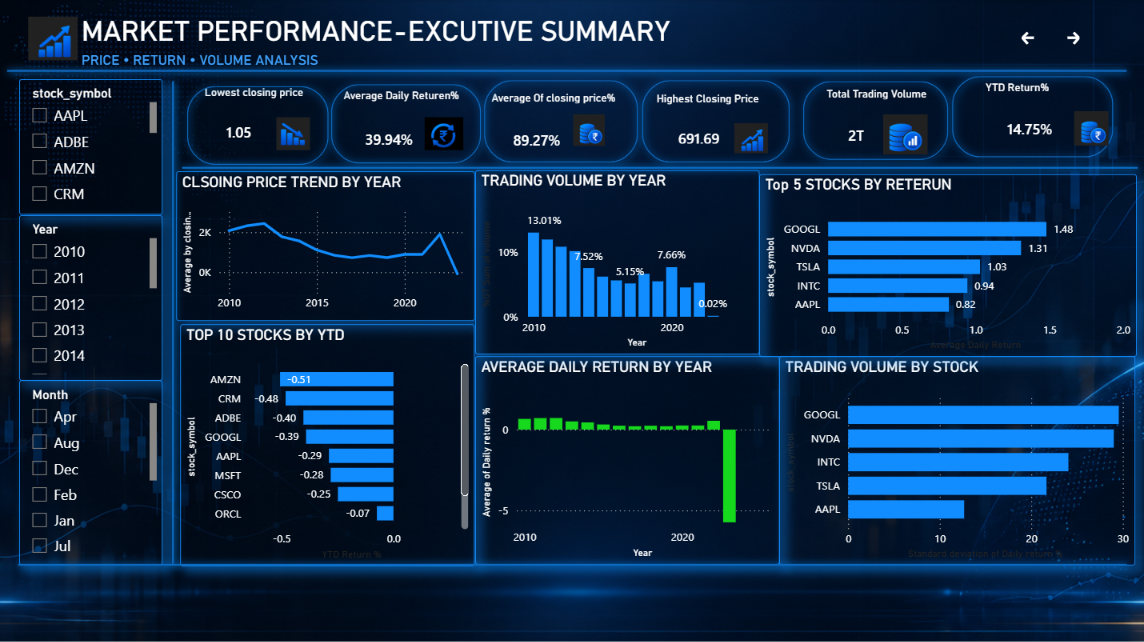

This screenshot's page, from the dashboard's own definition file:
{"tool":"powerbi","page":{"name":"STOCK_PERFORMANCE","canvas":[1280,720],"ordinal":1},"visuals":[{"type":"cardVisual","title":"Total Trading Volume","fields":{"Data":["big_tech_stock_prices.Total Trading Volume"]},"box":[919.4,98.8,123.3,80.2],"z":0},{"type":"lineChart","title":"CLSOING PRICE TREND BY YEAR","fields":{"Category":["big_tech_stock_prices.date.Variation.Date Hierarchy.Year"],"Y":["Sum(big_tech_stock_prices.Daily return %)"]},"box":[197.5,192.5,333.8,167.5],"z":1000},{"type":"clusteredBarChart","title":"TOP 10 STOCKS BY YTD","fields":{"Category":["big_tech_stock_prices.stock_symbol"],"Y":["big_tech_stock_prices.YTD Return %"]},"box":[202.5,362.5,328.8,270],"z":2000},{"type":"clusteredBarChart","title":"TRADING VOLUME BY STOCK","fields":{"Category":["big_tech_stock_prices.stock_symbol"],"Y":["Sum(big_tech_stock_prices.Daily return %)"]},"box":[871.2,398.8,397.5,233.8],"z":3000},{"type":"clusteredColumnChart","title":"AVERAGE DAILY RETURN BY YEAR","fields":{"Category":["big_tech_stock_prices.date.Variation.Date Hierarchy.Year"],"Y":["Avg(big_tech_stock_prices.Daily return %)"]},"box":[531.2,398.8,340,232.5],"z":4000},{"type":"slicer","fields":{"Values":["big_tech_stock_prices.stock_symbol"]},"box":[22.2,88.9,160,151.1],"z":5000},{"type":"cardVisual","title":"Average Daily Returen%","fields":{"Data":["big_tech_stock_prices.Average Daily Return"]},"box":[380.1,100.2,180,85],"z":6000},{"type":"cardVisual","title":"Highest Closing Price","fields":{"Data":["big_tech_stock_prices.Highest Closing Price"]},"box":[728.6,104.3,142,75],"z":7000},{"type":"cardVisual","title":"Average Of closing price%","fields":{"Data":["big_tech_stock_prices.Average Closing Price Display"]},"box":[544.8,102.9,178,82],"z":8000},{"type":"cardVisual","title":"Lowest closing price","fields":{"Data":["big_tech_stock_prices.Lowest Closing Price"]},"box":[224.4,96.7,155.6,75.6],"z":9000},{"type":"shape","box":[200.6,88.4,175.6,105.7],"z":10000},{"type":"shape","box":[889.2,82.3,179.8,105.7],"z":11000},{"type":"image","box":[301.9,131.7,53.5,37],"z":12000},{"type":"image","box":[809.6,138.6,60.5,33.7],"z":13000},{"type":"image","box":[640.8,126.2,35,40],"z":14000},{"type":"image","box":[986.6,126.2,49.4,49.4],"z":15000},{"type":"textbox","title":"MARKET PERFORMANCE-EXCUTIVE SUMMARY","box":[87,18,734,52],"z":16000},{"type":"image","box":[32,18,55,52],"z":17000},{"type":"textbox","title":"PRICE • RETURN • VOLUME ANALYSIS","box":[87,59,734,22],"z":18000},{"type":"slicer","fields":{"Values":["big_tech_stock_prices.date.Variation.Date Hierarchy.Year"]},"box":[22.2,241.1,160,184.4],"z":19000},{"type":"slicer","fields":{"Values":["big_tech_stock_prices.Month"]},"box":[22.2,425.6,160,206.7],"z":20000},{"type":"shape","box":[361.9,86,185.1,106.3],"z":21000},{"type":"shape","box":[532.6,81.2,189.4,109.8],"z":22000},{"type":"shape","box":[709.4,81,182.5,109.8],"z":23000},{"type":"shape","box":[12.8,601.2,1255.8,61.6],"z":24000},{"type":"shape","box":[146.4,82.6,95.6,556.7],"z":25000},{"type":"shape","box":[194.9,157.8,1084.9,61.6],"z":26000},{"type":"shape","box":[0,49.4,1267.9,61.7],"z":27000},{"type":"shape","box":[1055.2,76.8,197.6,108.4],"z":28000},{"type":"image","box":[473.4,131.7,47,37],"z":29000},{"type":"cardVisual","title":"YTD Return%","fields":{"Data":["big_tech_stock_prices.YTD Return %"]},"box":[1096.4,91.9,123.5,79.6],"z":30000},{"type":"image","box":[1185.6,124.9,67.2,38.4],"z":31000},{"type":"clusteredColumnChart","title":"TRADING VOLUME BY YEAR","fields":{"Category":["big_tech_stock_prices.date.Variation.Date Hierarchy.Year"],"Y":["Sum(big_tech_stock_prices.volume)"]},"box":[531.4,190.7,317.4,205.8],"z":32000},{"type":"clusteredBarChart","title":"Top 5 STOCKS BY RETERUN","fields":{"Category":["big_tech_stock_prices.stock_symbol"],"Y":["big_tech_stock_prices.Average Daily Return"]},"box":[848.8,195,421.2,203.8],"z":33000},{"type":"actionButton","box":[1179.7,23.2,56.5,40.6],"z":34000},{"type":"actionButton","box":[1129,23.2,56.5,40.6],"z":35000}]}

Visuals, with their boxes in screenshot pixels (x1, y1, x2, y2), scaled from the page's 1280x720 canvas onto the 1144x642 screenshot:
"Total Trading Volume" cardVisual: Rect(822, 88, 932, 160)
"CLSOING PRICE TREND BY YEAR" lineChart: Rect(177, 172, 475, 321)
"TOP 10 STOCKS BY YTD" clusteredBarChart: Rect(181, 323, 475, 564)
"TRADING VOLUME BY STOCK" clusteredBarChart: Rect(779, 356, 1134, 564)
"AVERAGE DAILY RETURN BY YEAR" clusteredColumnChart: Rect(475, 356, 779, 563)
slicer - big_tech_stock_prices.stock_symbol: Rect(20, 79, 163, 214)
"Average Daily Returen%" cardVisual: Rect(340, 89, 501, 165)
"Highest Closing Price" cardVisual: Rect(651, 93, 778, 160)
"Average Of closing price%" cardVisual: Rect(487, 92, 646, 165)
"Lowest closing price" cardVisual: Rect(201, 86, 340, 154)
shape: Rect(179, 79, 336, 173)
shape: Rect(795, 73, 955, 168)
image: Rect(270, 117, 318, 150)
image: Rect(724, 124, 778, 154)
image: Rect(573, 113, 604, 148)
image: Rect(882, 113, 926, 157)
"MARKET PERFORMANCE-EXCUTIVE SUMMARY" textbox: Rect(78, 16, 734, 62)
image: Rect(29, 16, 78, 62)
"PRICE • RETURN • VOLUME ANALYSIS" textbox: Rect(78, 53, 734, 72)
slicer - big_tech_stock_prices.date.Variation.Date Hierarchy.Year: Rect(20, 215, 163, 379)
slicer - big_tech_stock_prices.Month: Rect(20, 379, 163, 564)
shape: Rect(323, 77, 489, 171)
shape: Rect(476, 72, 645, 170)
shape: Rect(634, 72, 797, 170)
shape: Rect(11, 536, 1134, 591)
shape: Rect(131, 74, 216, 570)
shape: Rect(174, 141, 1143, 196)
shape: Rect(0, 44, 1133, 99)
shape: Rect(943, 68, 1120, 165)
image: Rect(423, 117, 465, 150)
"YTD Return%" cardVisual: Rect(980, 82, 1090, 153)
image: Rect(1060, 111, 1120, 146)
"TRADING VOLUME BY YEAR" clusteredColumnChart: Rect(475, 170, 759, 354)
"Top 5 STOCKS BY RETERUN" clusteredBarChart: Rect(759, 174, 1135, 356)
actionButton: Rect(1054, 21, 1105, 57)
actionButton: Rect(1009, 21, 1060, 57)
